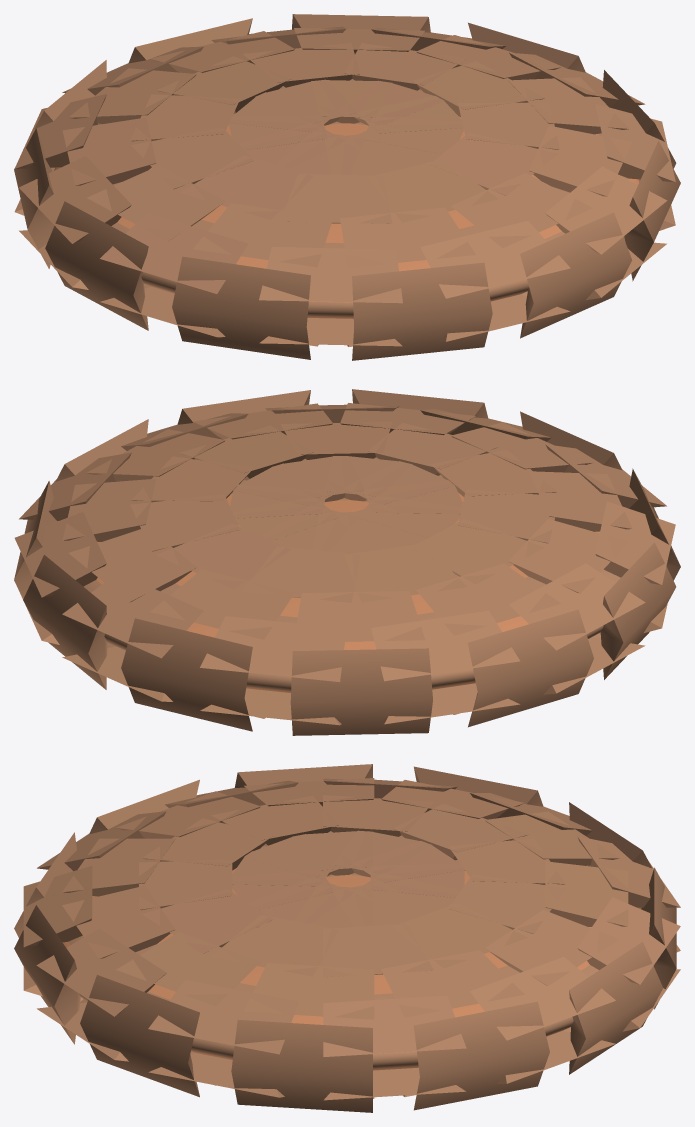
File: RattanCushion.fbx
3 renders of one model, top to bottom at view 1: azimuth 30°, elevation 25°; view 2: azimuth 150°, elevation 25°; view 3: azimuth 270°, elevation 25°, orthographic.
Parts seen in each view (by area): view 1: RattanCushion1; view 2: RattanCushion1; view 3: RattanCushion1.
Part boxes in pixels (x1=…): RattanCushion1: x1=14, y1=14, x2=680, y2=360; RattanCushion1: x1=14, y1=389, x2=680, y2=735; RattanCushion1: x1=14, y1=764, x2=680, y2=1112.
Bounding box in the file's own units: 23.84 × 4.79 × 23.75.
1 material, 1 textured.
